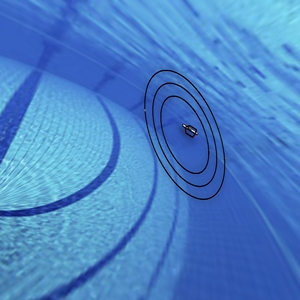circle: (132, 60, 239, 209)
submarine: (175, 113, 203, 149)
